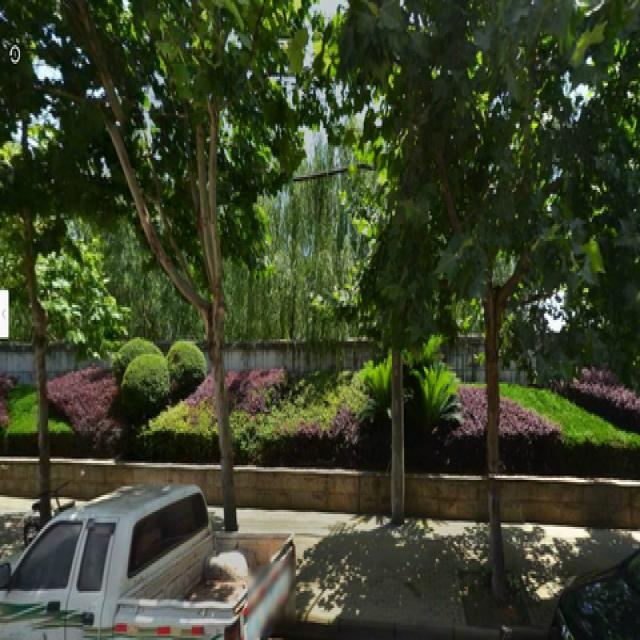meta: (84, 9, 305, 504), (420, 4, 569, 623)
